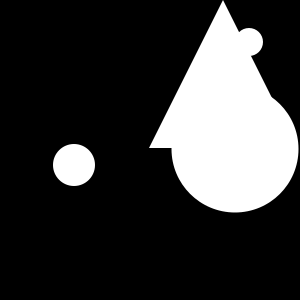rectangle: (172, 85, 298, 212), (53, 144, 95, 186), (235, 28, 263, 56)
triangle: (149, 0, 297, 148)
